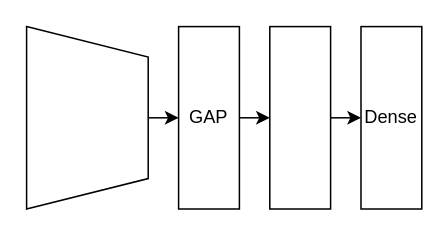
This 448x236 diagram has some shape labels left out. The shapes that lost their labels are listed below. From the top down, each one's centre as x and y in pixels, then its label:
the point at 86,117: ResNet50
the point at 299,117: Dropout
